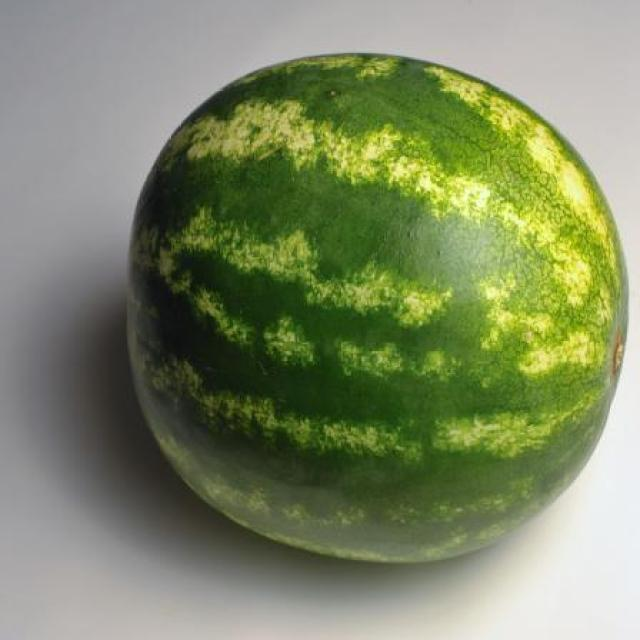Watermelon: (124, 51, 627, 560)
